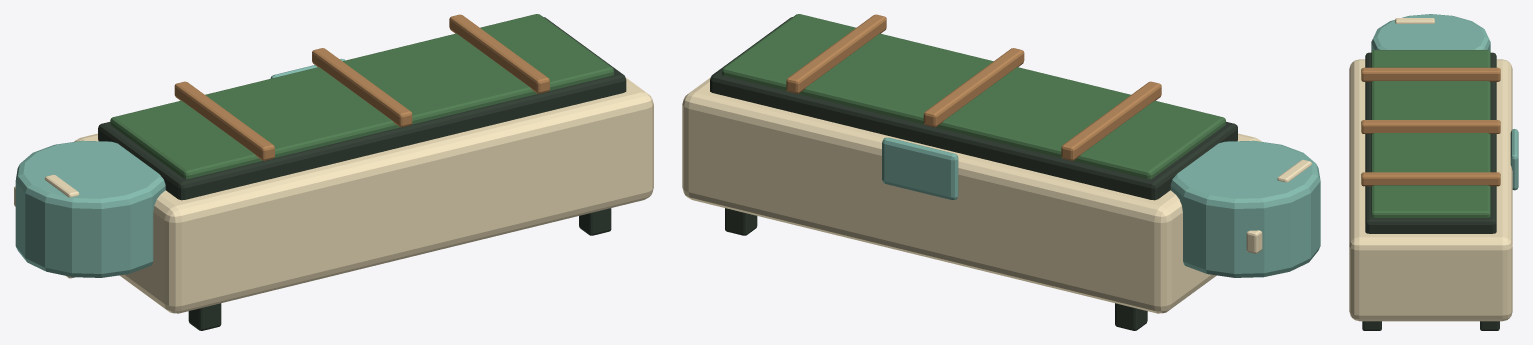
The model's file is SM_WitherTrough.fbx.
The picture shows the model from 3 angles, left to right: view 1: azimuth 30°, elevation 25°; view 2: azimuth 150°, elevation 25°; view 3: azimuth 270°, elevation 25°; orthographic projection. The views are drawn at different scales.
Parts seen in each view (by area): view 1: WitherMesh; view 2: WitherMesh; view 3: WitherMesh.
Part boxes in pixels (x1=…): WitherMesh: x1=14, y1=14, x2=653, y2=330; WitherMesh: x1=682, y1=14, x2=1320, y2=330; WitherMesh: x1=1349, y1=14, x2=1518, y2=330.
Size of the model in its own units: 2.62 by 0.73 by 0.85.
